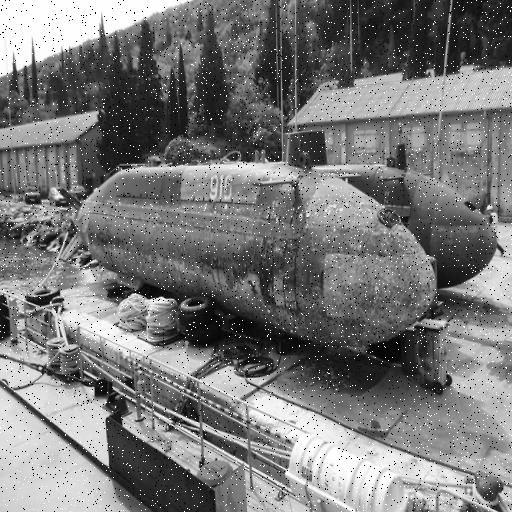submarine: (50, 164, 440, 356), (209, 132, 506, 284)
